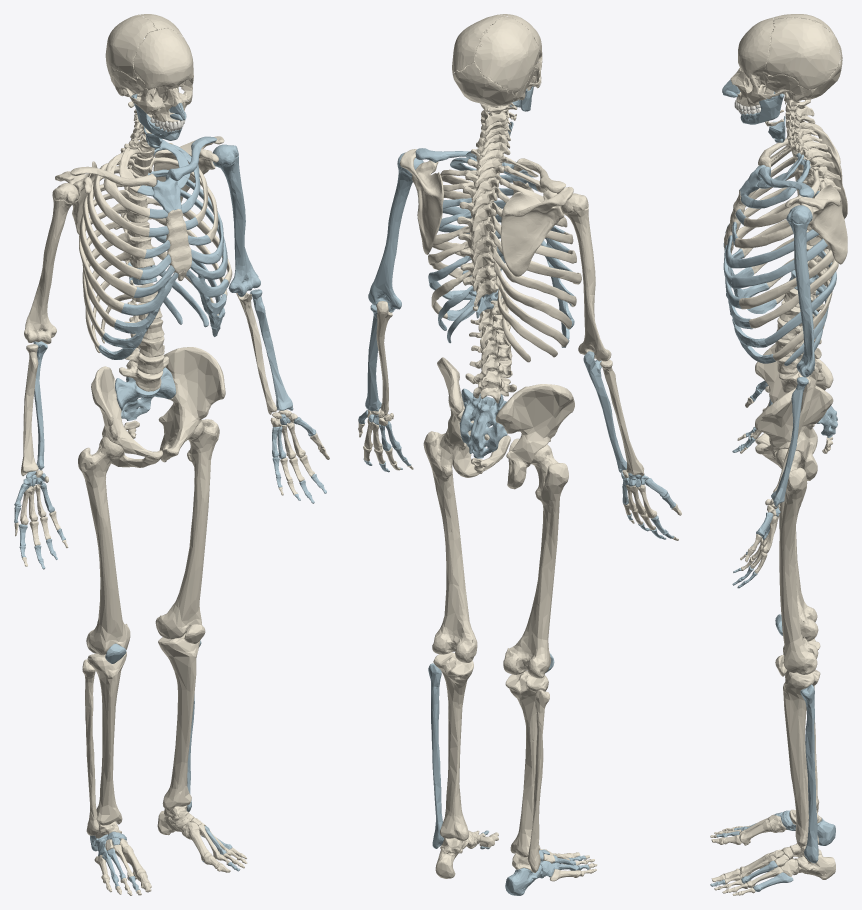
The model's file is squelette.glb.
3 renders of one model, left to right at view 1: azimuth 30°, elevation 25°; view 2: azimuth 150°, elevation 25°; view 3: azimuth 270°, elevation 25°, orthographic. The views are drawn at different scales.
Visible parts, largest first — view 1: Femur.r, Femur.l, Hip bone.l, Tibia.l, Frontal bone, Tibia.r, Humerus.r, Humerus.l, Hip bone.r, Parietal bone.r, Sacrum, Fibula.r (+18 smaller); view 2: Femur.r, Femur.l, Hip bone.r, Scapula.r, Parietal bone.r, Tibia.l, Tibia.r, Humerus.r, Humerus.l, Hip bone.l, Scapula.l, Sacrum (+15 smaller); view 3: Femur.l, Parietal bone.l, Tibia.l, Hip bone.l, Humerus.l, Scapula.l, Fibula.l, Frontal bone, Hip bone.r, Radius.l, Femur.r, Seventh rib.l (+29 smaller).
Part boxes in pixels (bbox=[...]): Femur.r: bbox=[78, 436, 130, 655]; Femur.l: bbox=[155, 419, 219, 639]; Hip bone.l: bbox=[158, 347, 225, 462]; Tibia.l: bbox=[158, 633, 200, 811]; Frontal bone: bbox=[133, 28, 193, 91]; Tibia.r: bbox=[87, 652, 126, 825]; Humerus.r: bbox=[24, 183, 78, 344]; Humerus.l: bbox=[212, 144, 260, 296]; Hip bone.r: bbox=[91, 366, 162, 467]; Parietal bone.r: bbox=[105, 14, 156, 79]; Sacrum: bbox=[115, 367, 175, 420]; Fibula.r: bbox=[82, 659, 99, 835]; Femur.r: bbox=[503, 444, 568, 678]; Femur.l: bbox=[423, 428, 477, 662]; Hip bone.r: bbox=[495, 384, 574, 489]; Scapula.r: bbox=[500, 187, 573, 276]; Parietal bone.r: bbox=[474, 16, 539, 93]; Tibia.l: bbox=[433, 652, 473, 840]; Tibia.r: bbox=[505, 671, 548, 857]; Humerus.r: bbox=[561, 193, 611, 361]; Humerus.l: bbox=[368, 152, 423, 312]; Hip bone.l: bbox=[437, 357, 510, 477]; Scapula.l: bbox=[400, 149, 443, 254]; Sacrum: bbox=[459, 388, 507, 458]; Femur.l: bbox=[775, 448, 818, 674]; Parietal bone.l: bbox=[763, 17, 840, 89]; Tibia.l: bbox=[783, 669, 820, 846]; Hip bone.l: bbox=[755, 386, 833, 480]; Humerus.l: bbox=[786, 205, 815, 377]; Scapula.l: bbox=[785, 183, 847, 264]; Fibula.l: bbox=[800, 684, 818, 863]; Frontal bone: bbox=[738, 17, 774, 78]; Hip bone.r: bbox=[755, 343, 833, 453]; Radius.l: bbox=[771, 377, 808, 506]; Femur.r: bbox=[779, 470, 818, 641]; Seventh rib.l: bbox=[739, 249, 834, 309].
Bounding box in the file's own units: 0.6692 × 1.7 × 0.2501.
